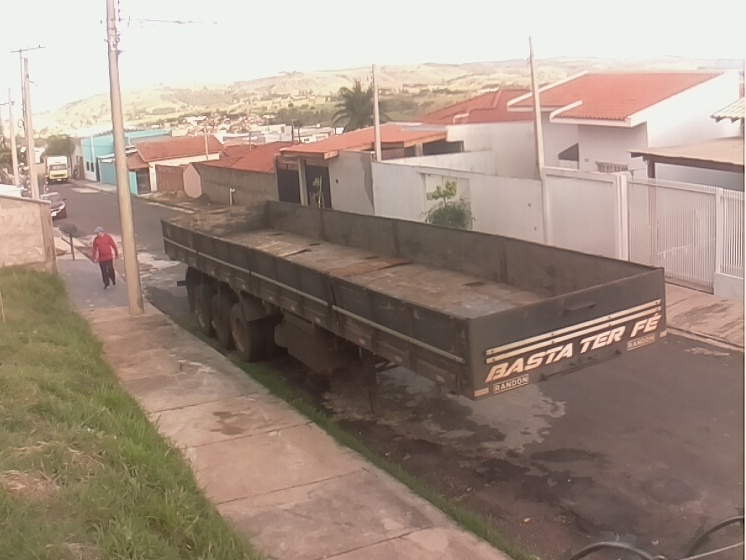person: (89, 225, 123, 291)
